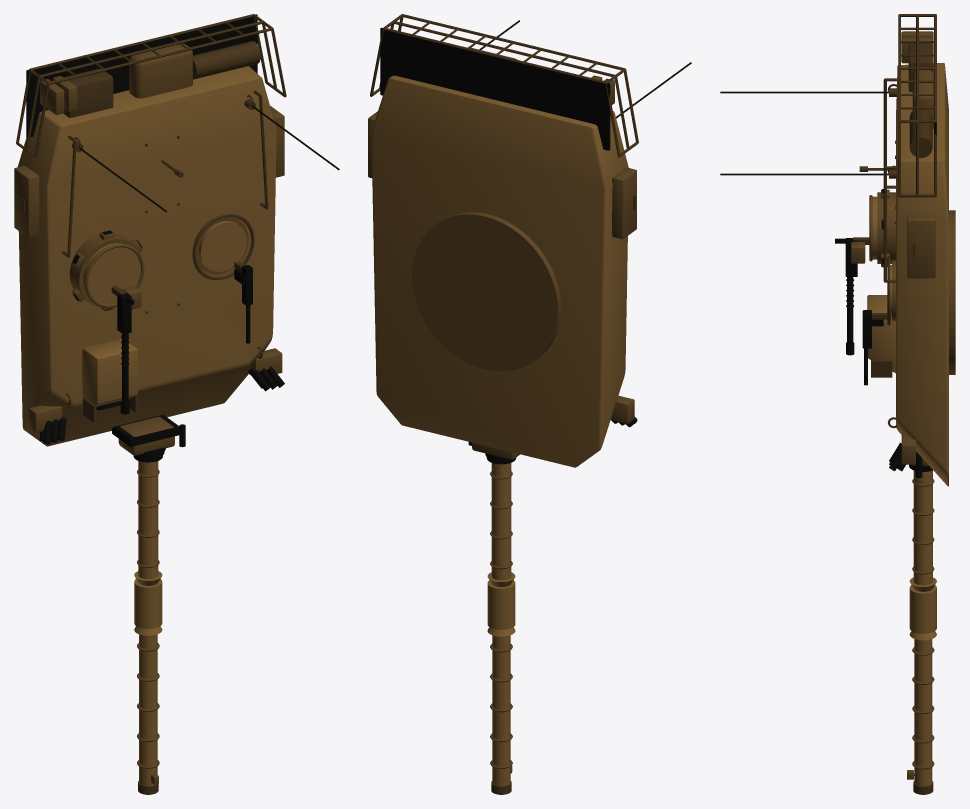
Rendered from tank_turret.obj.
The picture shows the model from 3 angles, left to right: view 1: azimuth 30°, elevation 25°; view 2: azimuth 150°, elevation 25°; view 3: azimuth 270°, elevation 25°; orthographic projection. The views are drawn at different scales.
Parts seen in each view (by area): view 1: TankTurret; view 2: TankTurret; view 3: TankTurret.
Part boxes in pixels (x1,y1,x2,y2): TankTurret: [14, 14, 339, 794]; TankTurret: [368, 14, 691, 794]; TankTurret: [720, 14, 955, 794].
Size of the model in its own units: 4.07 by 11.17 by 3.28.
